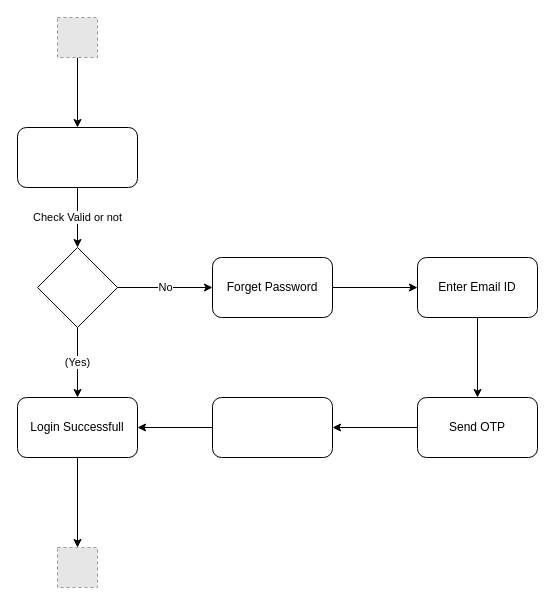
This 555x605 diagram has some shape labels left out. Grey dashed boxes stand in for pictures. The centre of each missing label's shape, as x and y in pixels:
"Enter OTP" belongs at point (272, 427).
"Enter Username & Password" belongs at point (77, 157).
